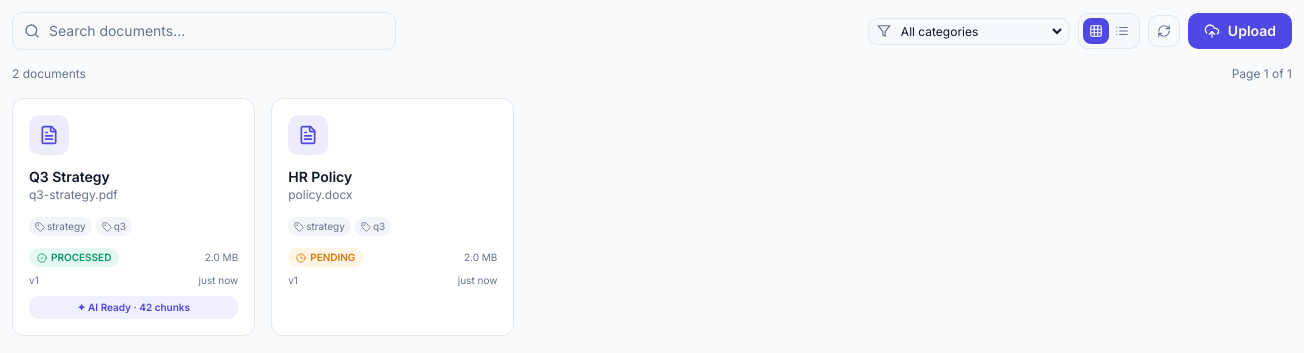
DocumentExplorer › should switch to table view when table button clicked
Expected: the text "Q3 Strategy" is shown, [29,168,110,185]
Click the button named "Table view". click: (1122, 31)
box: [1109,18,1135,44]
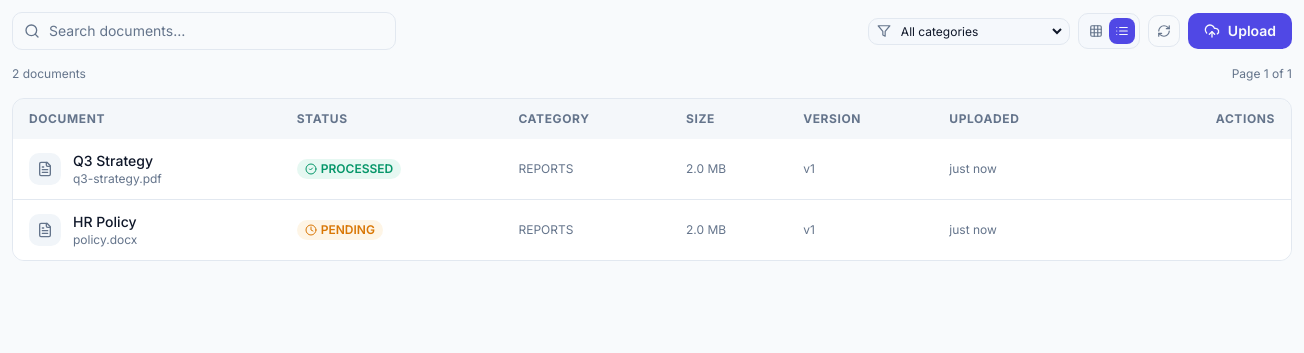
Result: the table with id "documents-table" is shown at [13,99,1291,260]
